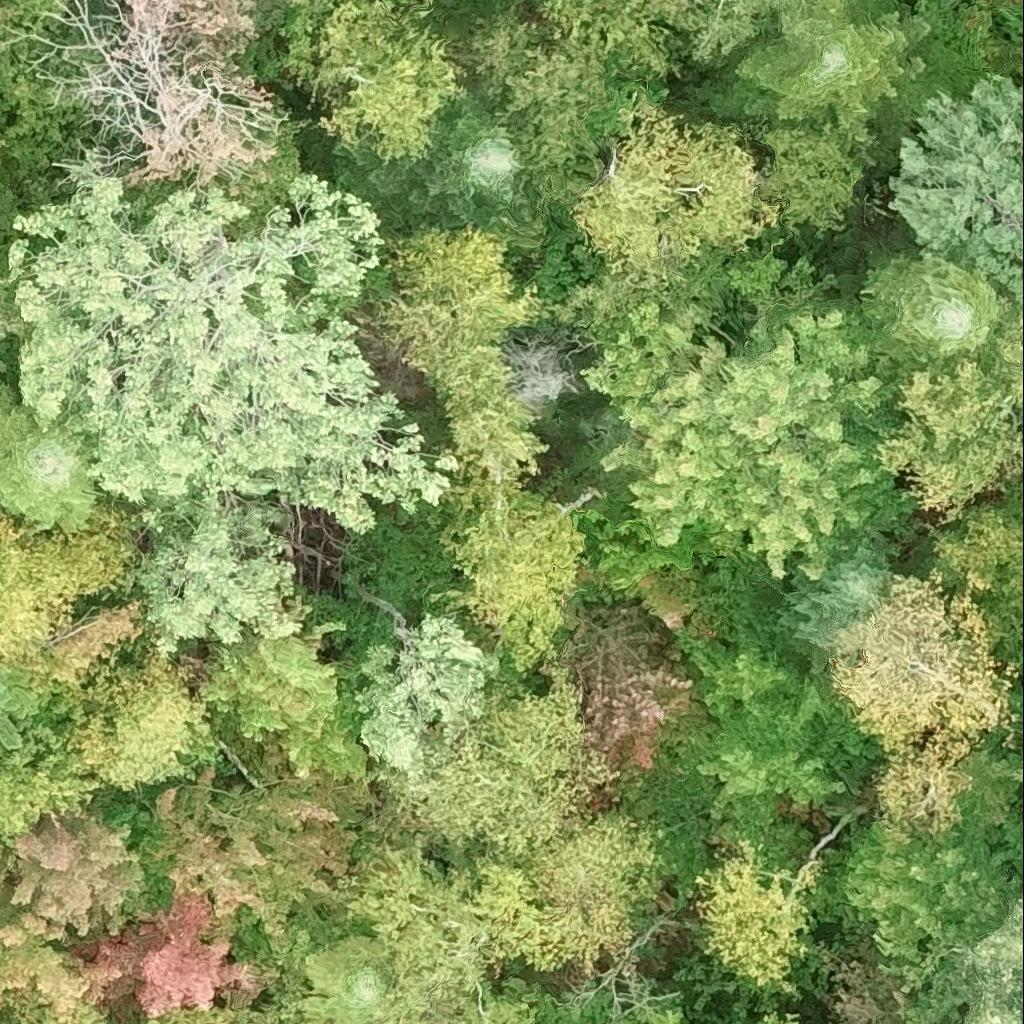crown: (10, 174, 457, 533), (578, 241, 919, 582), (98, 705, 383, 950), (477, 0, 721, 205), (322, 826, 573, 1023), (836, 573, 1012, 837), (671, 628, 891, 837), (374, 665, 616, 854), (374, 229, 549, 481), (852, 757, 1023, 988), (574, 109, 782, 296), (200, 592, 373, 778), (496, 799, 671, 982), (0, 809, 147, 1023), (891, 71, 1023, 306), (279, 0, 469, 163), (334, 95, 543, 243), (875, 305, 1023, 510), (435, 467, 583, 669), (141, 474, 299, 654), (740, 0, 933, 139), (80, 892, 266, 1019), (66, 647, 223, 795), (358, 620, 498, 782), (559, 605, 693, 771), (0, 500, 134, 660), (642, 562, 831, 674), (694, 837, 824, 998), (0, 599, 143, 737), (923, 482, 1023, 664), (571, 506, 763, 594), (0, 384, 102, 525), (0, 726, 104, 854), (876, 260, 1009, 357), (779, 536, 892, 643), (757, 132, 861, 232), (946, 891, 1023, 1023), (297, 936, 397, 1023), (586, 54, 673, 149), (456, 978, 542, 1023), (0, 665, 36, 748), (146, 1004, 285, 1023), (0, 987, 65, 1023), (0, 276, 29, 343), (617, 1005, 695, 1023), (69, 1001, 106, 1023), (305, 1013, 326, 1023), (1014, 771, 1023, 786), (940, 1016, 956, 1023), (0, 357, 7, 371), (670, 1021, 677, 1023)
